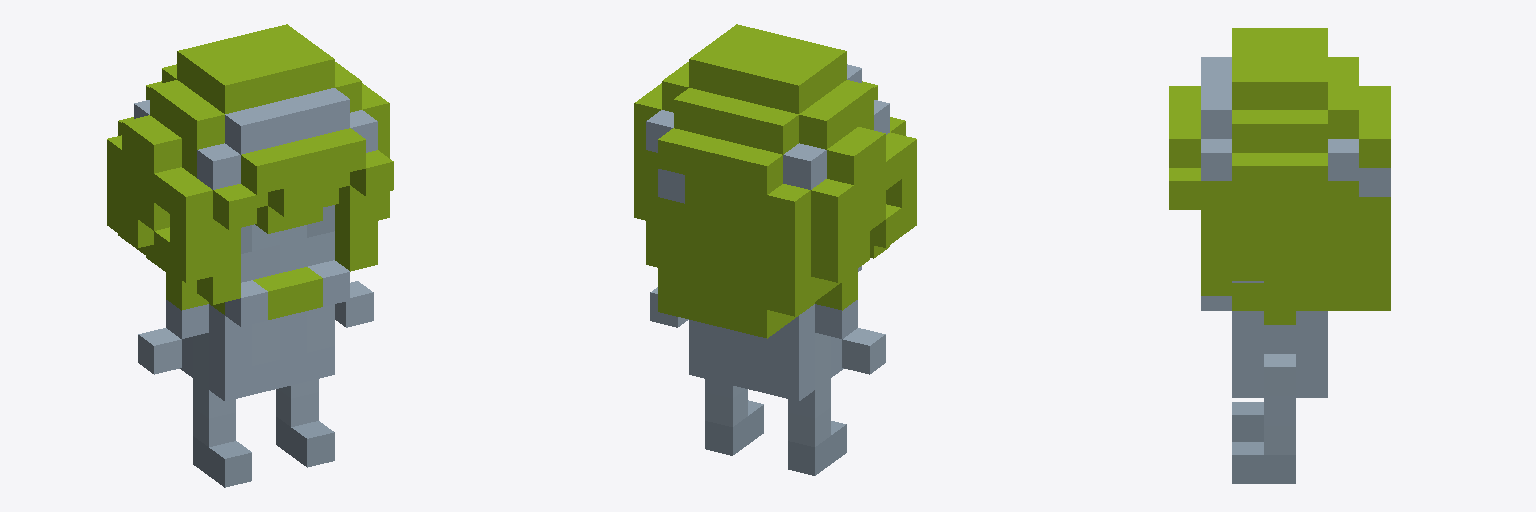
3 views of the same model, side by side, from view 1: azimuth 30°, elevation 25°; view 2: azimuth 150°, elevation 25°; view 3: azimuth 270°, elevation 25° (orthographic).
Parts seen in each view (by area): view 1: boy3-2; view 2: boy3-2; view 3: boy3-2.
Part boxes in pixels (x1,y1,x2,y2): boy3-2: (107,24,393,487); boy3-2: (634,24,916,475); boy3-2: (1169,28,1390,483).
Size of the model in its own units: 8 by 14 by 7.
1 materials, 1 textured.